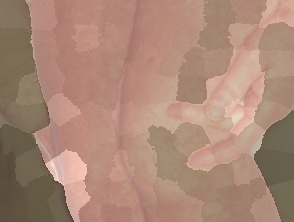SJS-TEN: (23, 0, 294, 222)
